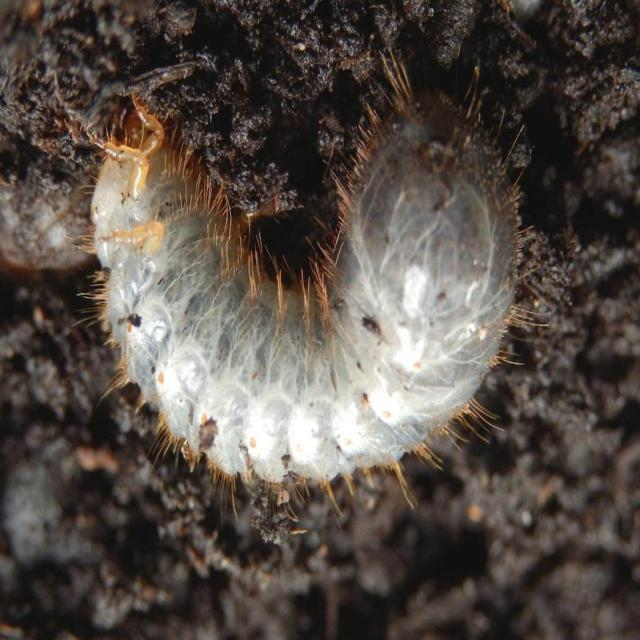grub: (91, 95, 521, 511)
